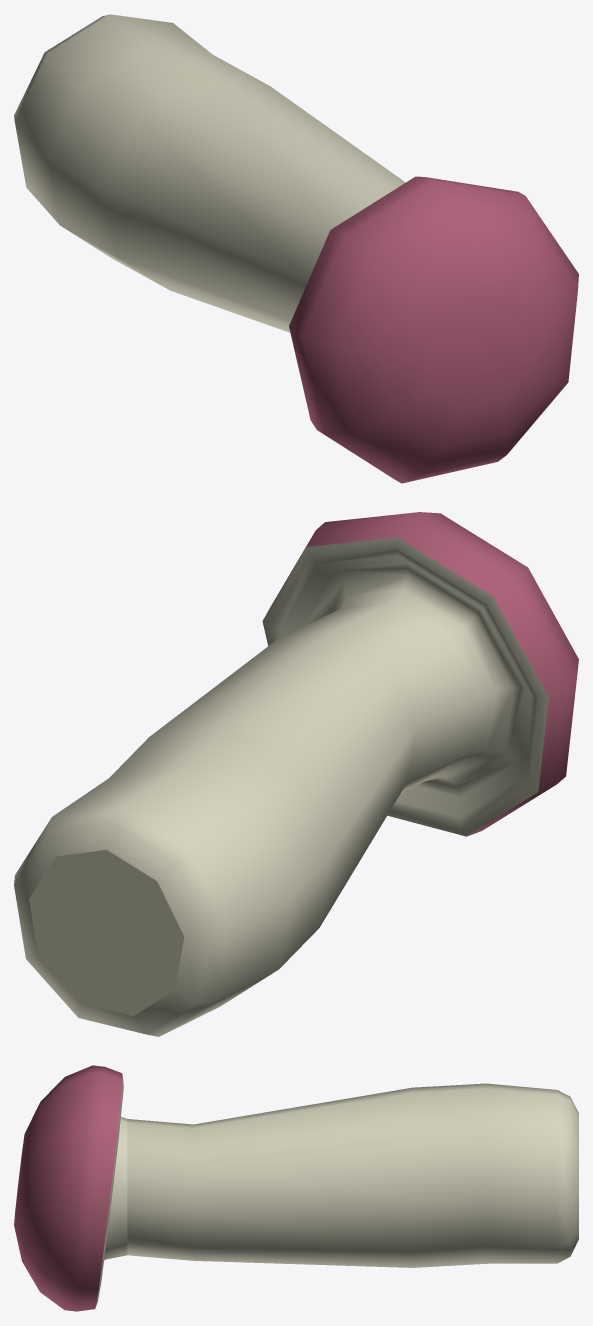
Rendered from SM_Mushroom_08.fbx.
The picture shows the model from 3 angles, top to bottom: view 1: azimuth 30°, elevation 25°; view 2: azimuth 150°, elevation 25°; view 3: azimuth 270°, elevation 25°; orthographic projection. The views are drawn at different scales.
Parts seen in each view (by area): view 1: SM_Mushroom_08; view 2: SM_Mushroom_08; view 3: SM_Mushroom_08.
Boxes of the visible parts, x1,y1,x2,y2 form: SM_Mushroom_08: (14,14,578,483); SM_Mushroom_08: (14,512,578,1036); SM_Mushroom_08: (14,1065,578,1311).
Size of the model in its own units: 64.7 by 63.62 by 148.
